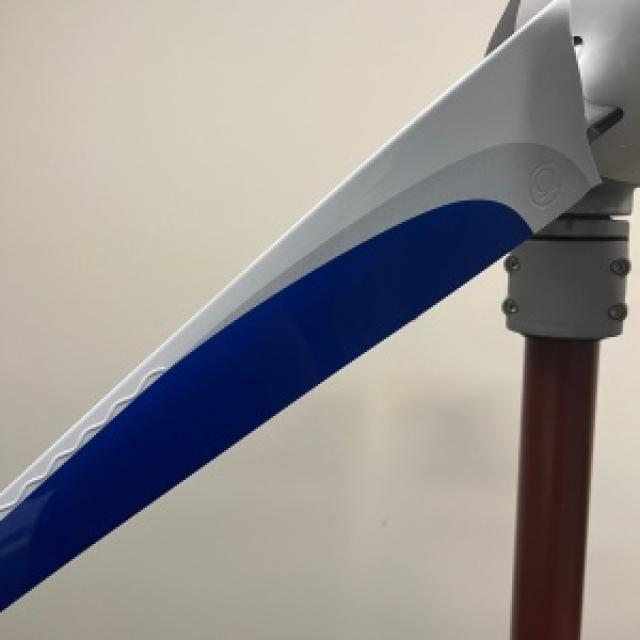healthy: (0, 260, 518, 638)
